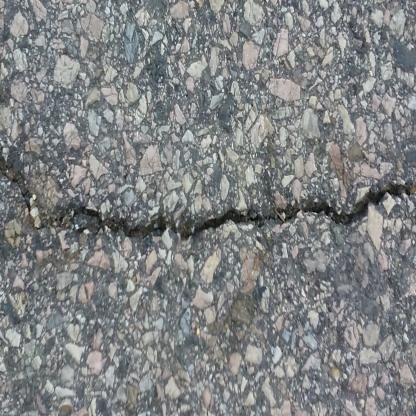Cracks: (0, 123, 416, 244)
